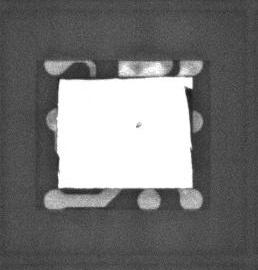DIE_BROKEN: (58, 75, 144, 82), (183, 87, 193, 142)
